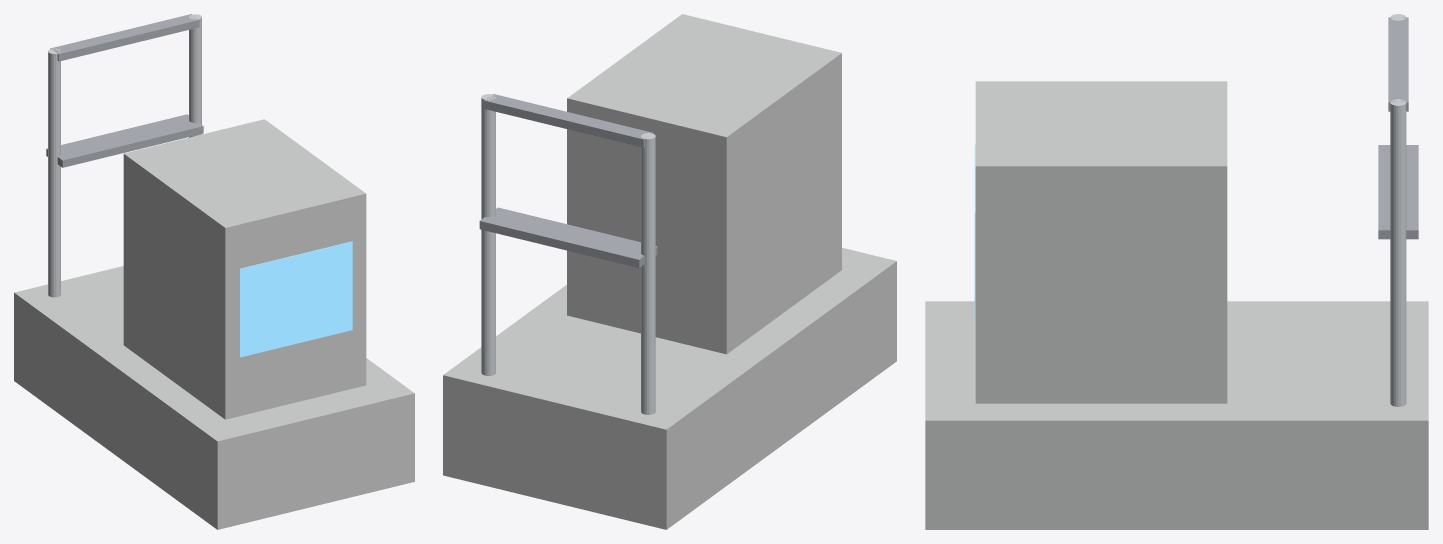
File: avtorefkeratometr.glb
3 views of the same model, side by side, from view 1: azimuth 30°, elevation 25°; view 2: azimuth 150°, elevation 25°; view 3: azimuth 270°, elevation 25° (orthographic). The views are drawn at different scales.
Size of the model in its own units: 0.28 by 0.45 by 0.5.
